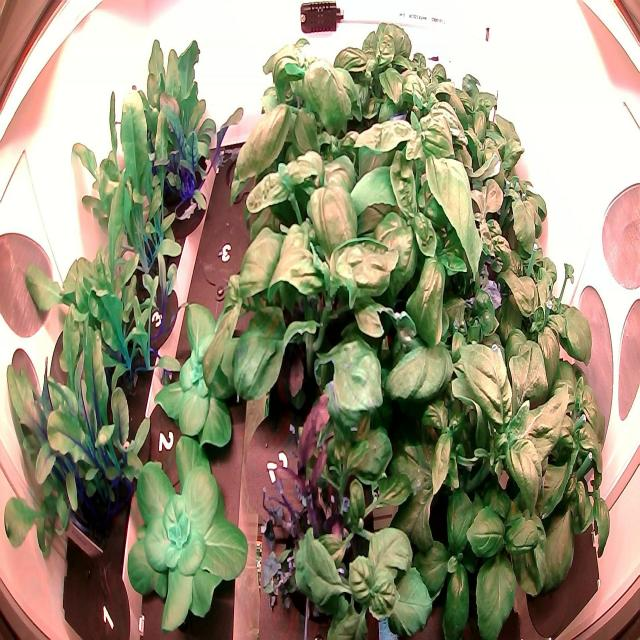empty_pod: (193, 211, 259, 305)
young: (123, 426, 252, 640), (150, 293, 266, 455)
